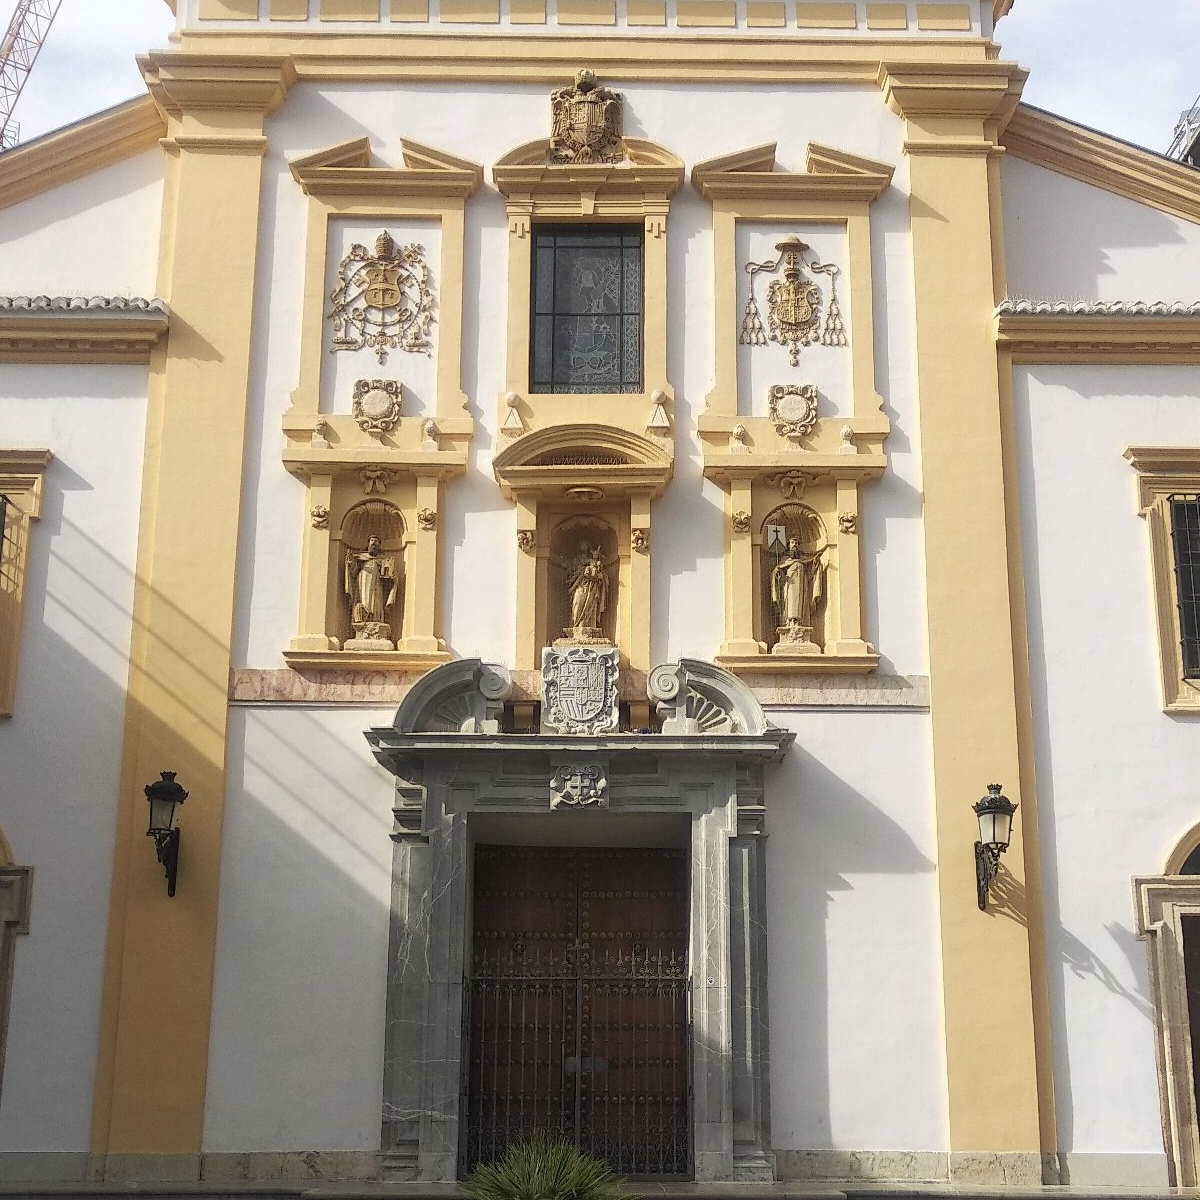fronton-curvo: (488, 419, 667, 489)
fronton-partido: (377, 656, 788, 770), (275, 133, 482, 200), (480, 127, 690, 186), (686, 138, 902, 195)
vano-adintelado: (425, 765, 725, 1188), (508, 186, 668, 409)
